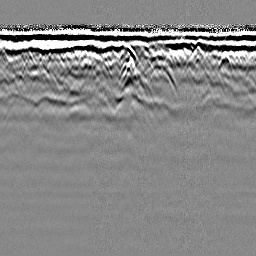cavity: (118, 40, 137, 60)
